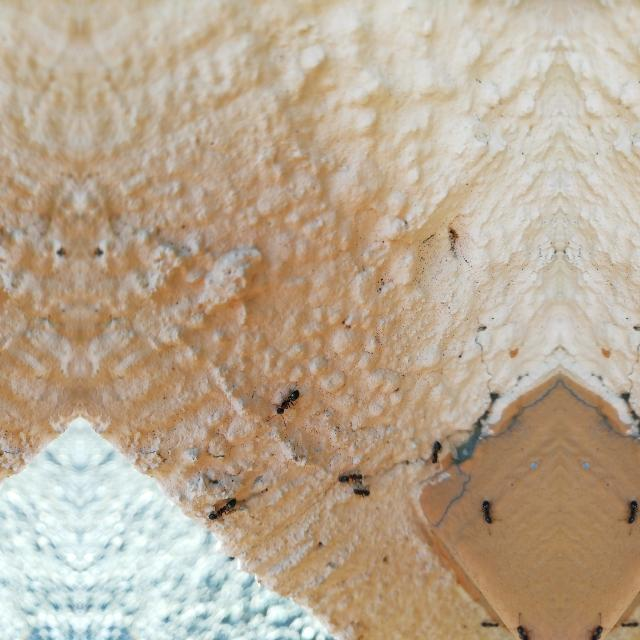Dolichoderus: (271, 381, 305, 423), (203, 492, 241, 528), (334, 462, 366, 488), (477, 494, 497, 528), (424, 435, 444, 469), (622, 492, 640, 528), (512, 617, 536, 639), (350, 475, 374, 497), (584, 617, 608, 639), (482, 615, 502, 631), (618, 615, 638, 631)
